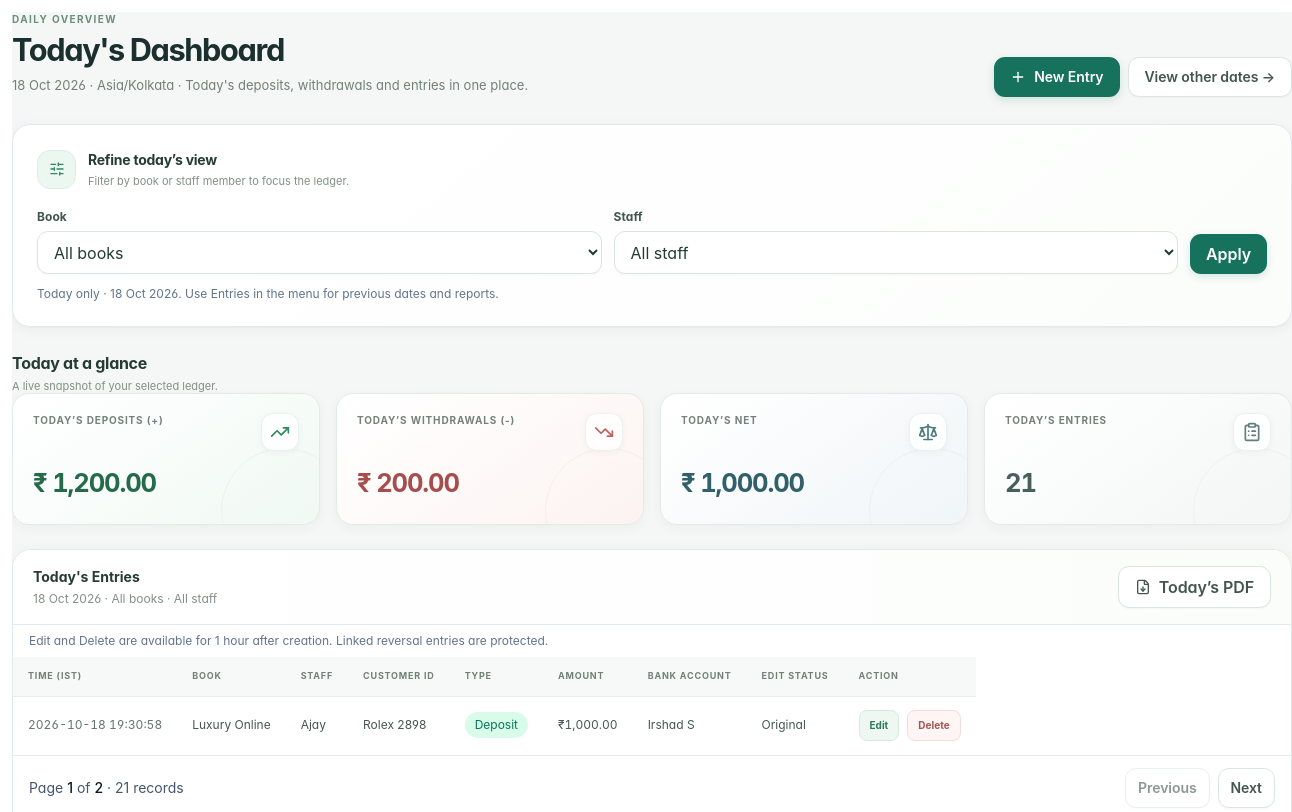
Test: rolls over to the new business day on page one instead of showing yesterday’s entries
Expected: the text "Rolex 2898" is shown, left=348, top=697, right=450, bottom=755
Click the button "Next". click: (1246, 788)
box: left=1218, top=768, right=1275, bottom=808
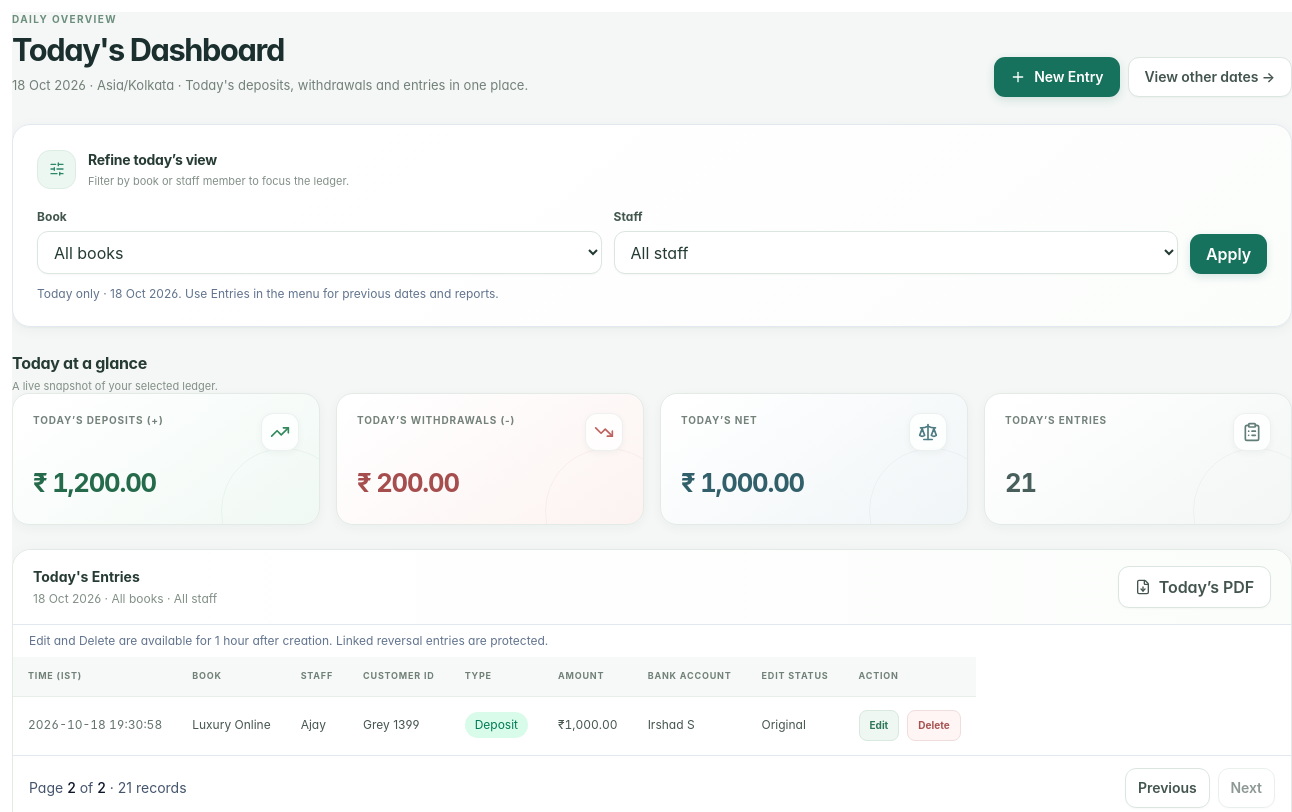
Now the text "Grey 1399" is shown, box left=348, top=697, right=450, bottom=755
